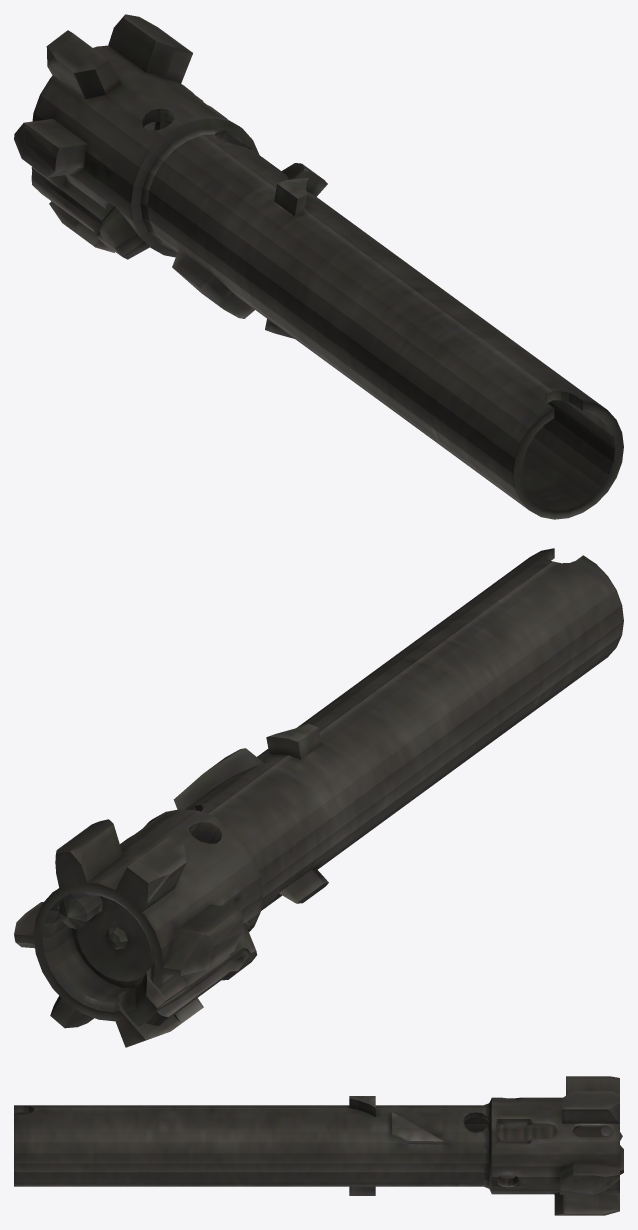
3 renders of one model, top to bottom at view 1: azimuth 30°, elevation 25°; view 2: azimuth 150°, elevation 25°; view 3: azimuth 270°, elevation 25°, orthographic. The views are drawn at different scales.
Parts seen in each view (by area): view 1: TW_57c44b372459772d2b39b8ce_PZ_Import; view 2: TW_57c44b372459772d2b39b8ce_PZ_Import; view 3: TW_57c44b372459772d2b39b8ce_PZ_Import.
Part boxes in pixels (left/top/right/bottom): TW_57c44b372459772d2b39b8ce_PZ_Import: left=14, top=14, right=623, bottom=519; TW_57c44b372459772d2b39b8ce_PZ_Import: left=14, top=548, right=623, bottom=1047; TW_57c44b372459772d2b39b8ce_PZ_Import: left=14, top=1076, right=623, bottom=1215.
Size of the model in its own units: 0.0124 by 0.0544 by 0.0121.
1 material, 1 textured.
